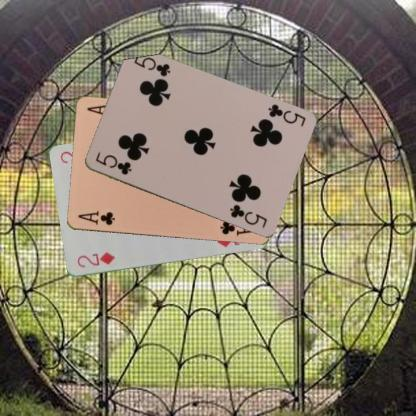2d: (75, 250, 116, 269)
5c: (265, 102, 307, 128), (92, 150, 133, 176)
Ac: (75, 208, 116, 226)
